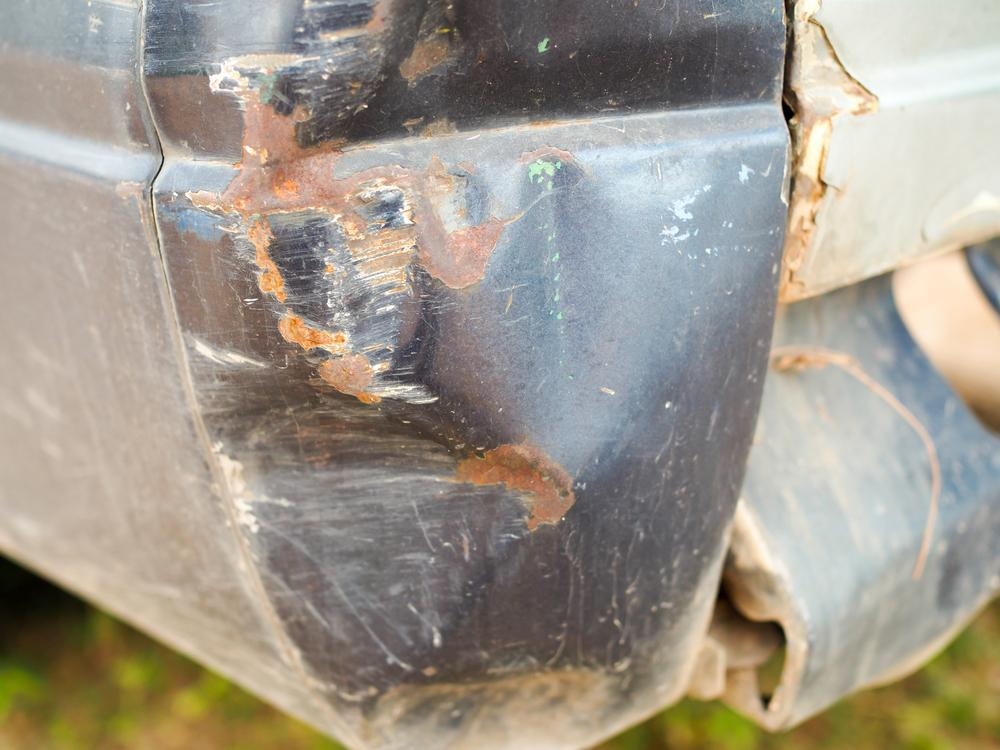dent: (228, 154, 641, 680)
scratch: (217, 0, 493, 385)
